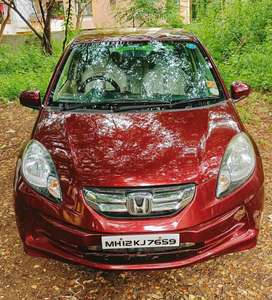MH12KJ7659: (101, 233, 179, 249)
